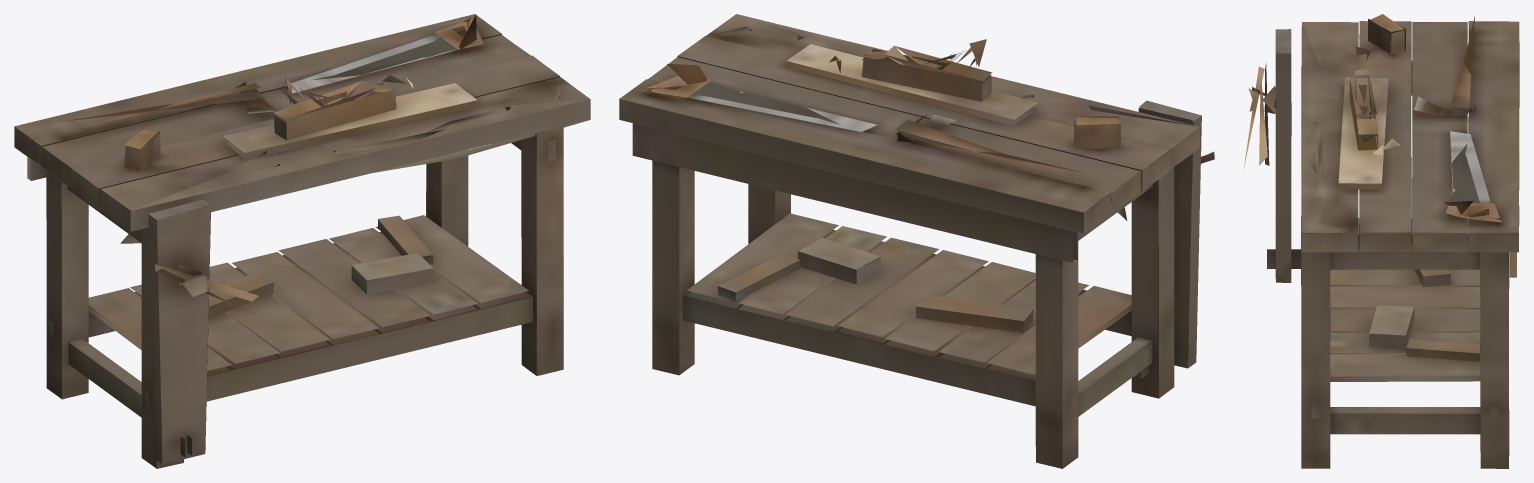
Rendered from b_bench_xfar.glb.
3 views of the same model, side by side, from view 1: azimuth 30°, elevation 25°; view 2: azimuth 150°, elevation 25°; view 3: azimuth 270°, elevation 25° (orthographic). The views are drawn at different scales.
Visible parts, largest first — view 1: b_bench_xfar; view 2: b_bench_xfar; view 3: b_bench_xfar.
Part boxes in pixels (x1,y1,x2,y2): b_bench_xfar: (14, 14, 590, 468); b_bench_xfar: (619, 14, 1214, 468); b_bench_xfar: (1243, 14, 1519, 468).
Bounding box in the file's own units: 1.6 × 1.09 × 0.885.
1 material, 1 textured.
